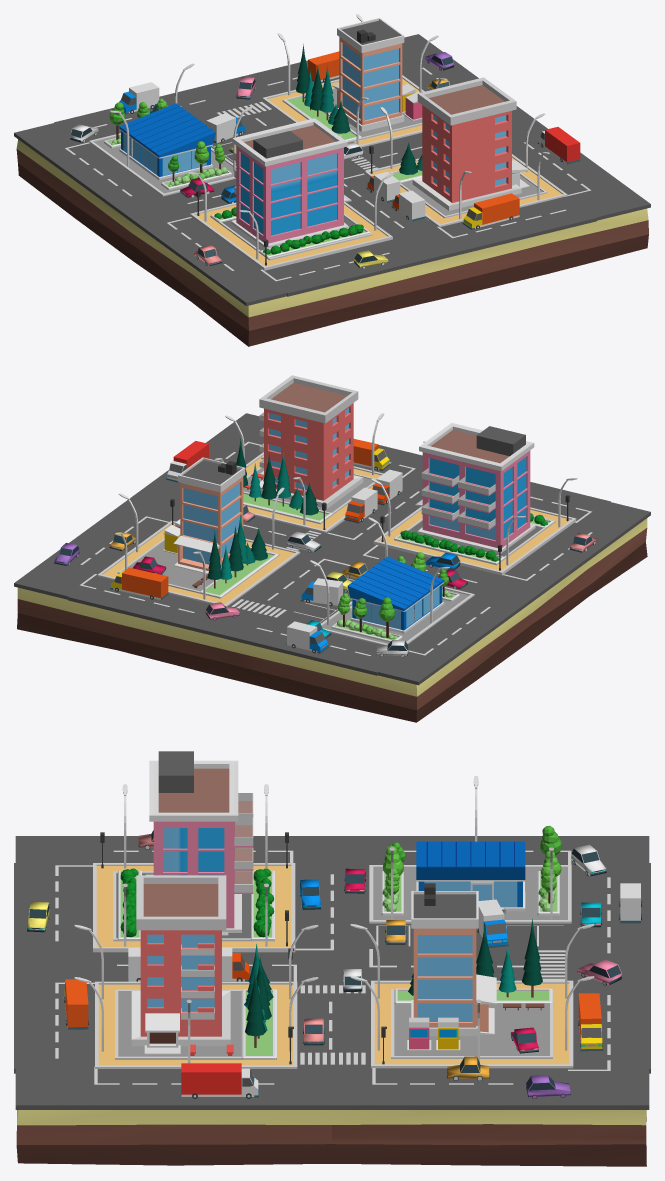
The model's file is cities.fbx.
3 renders of one model, top to bottom at view 1: azimuth 30°, elevation 25°; view 2: azimuth 150°, elevation 25°; view 3: azimuth 270°, elevation 25°, orthographic. The views are drawn at different scales.
Visible parts, largest first — view 1: ROAD, Floor_6, House, House_2, House_3, Shop, Floor, Floor_4_4, Floor_2, Car_08_3, Floor_3, Car_08_4 (+10 smaller); view 2: ROAD, Floor_6, House, House_2, House_3, Shop, Floor, Floor_3, Floor_4_4, Floor_4_3, Car_08_5, Floor_2 (+13 smaller); view 3: ROAD, Floor_6, House_2, House, House_3, Shop, Floor_3, Floor_2, Floor, Floor_4_3, Floor_4_4, Floor_4_2 (+24 smaller).
Boxes of the visible parts, left/top/right/bottom form: ROAD: left=14, top=34, right=650, bottom=305; Floor_6: left=16, top=139, right=648, bottom=346; House: left=231, top=118, right=351, bottom=248; House_2: left=412, top=77, right=529, bottom=210; House_3: left=332, top=18, right=404, bottom=131; Shop: left=119, top=103, right=215, bottom=180; Floor: left=190, top=202, right=392, bottom=270; Floor_4_4: left=89, top=133, right=236, bottom=196; Floor_2: left=365, top=154, right=567, bottom=227; Car_08_3: left=462, top=193, right=519, bottom=229; Floor_3: left=262, top=75, right=424, bottom=147; Car_08_4: left=537, top=127, right=580, bottom=164; ROAD: left=14, top=413, right=650, bottom=685; Floor_6: left=17, top=518, right=647, bottom=722; House: left=415, top=423, right=535, bottom=553; House_2: left=259, top=375, right=363, bottom=508; House_3: left=173, top=457, right=245, bottom=573; Shop: left=347, top=556, right=444, bottom=633; Floor: left=373, top=506, right=576, bottom=575; Floor_3: left=97, top=520, right=300, bottom=606; Floor_4_4: left=321, top=586, right=474, bottom=645; Floor_4_3: left=117, top=538, right=279, bottom=598; Car_08_5: left=110, top=567, right=168, bottom=599; Floor_2: left=245, top=452, right=383, bottom=533; ROAD: left=14, top=836, right=650, bottom=1109; Floor_6: left=16, top=1110, right=646, bottom=1166; House_2: left=131, top=875, right=230, bottom=1054; House: left=146, top=751, right=253, bottom=935; House_3: left=411, top=883, right=496, bottom=1036; Shop: left=416, top=841, right=525, bottom=911; Floor_3: left=371, top=980, right=573, bottom=1068; Floor_2: left=95, top=981, right=297, bottom=1068; Floor: left=93, top=863, right=295, bottom=952; Floor_4_3: left=391, top=989, right=552, bottom=1058; Floor_4_4: left=369, top=865, right=571, bottom=923; Floor_4_2: left=115, top=989, right=276, bottom=1059.
Bounding box in the file's own units: 2192 × 744 × 2192.
